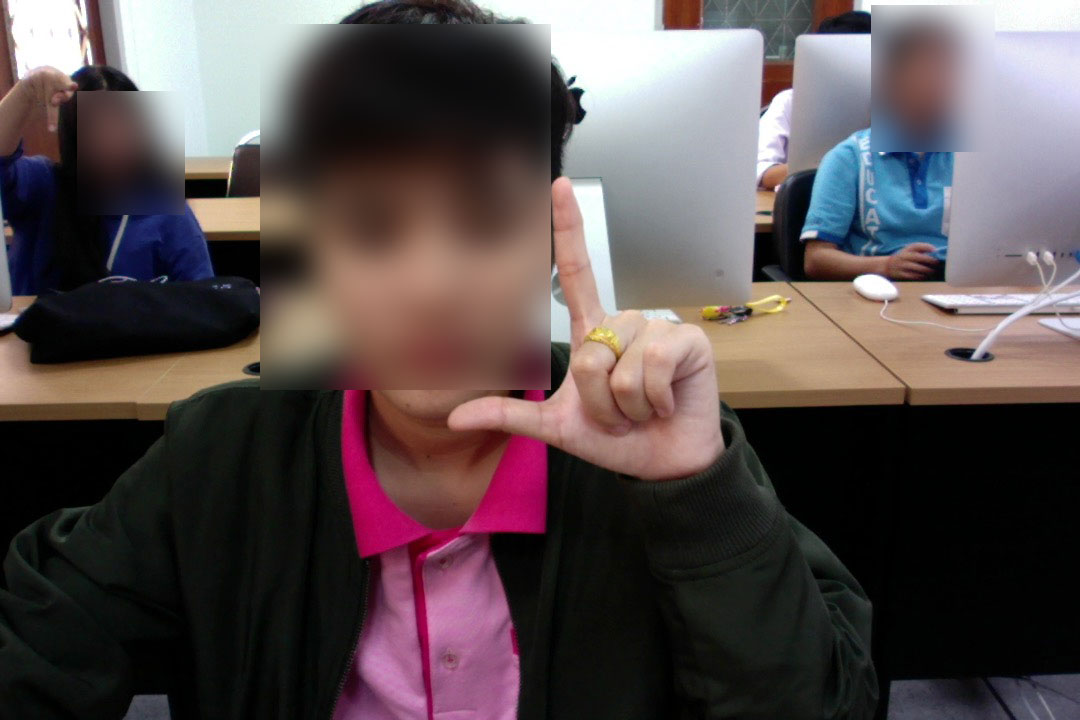lor: (431, 178, 767, 493)
